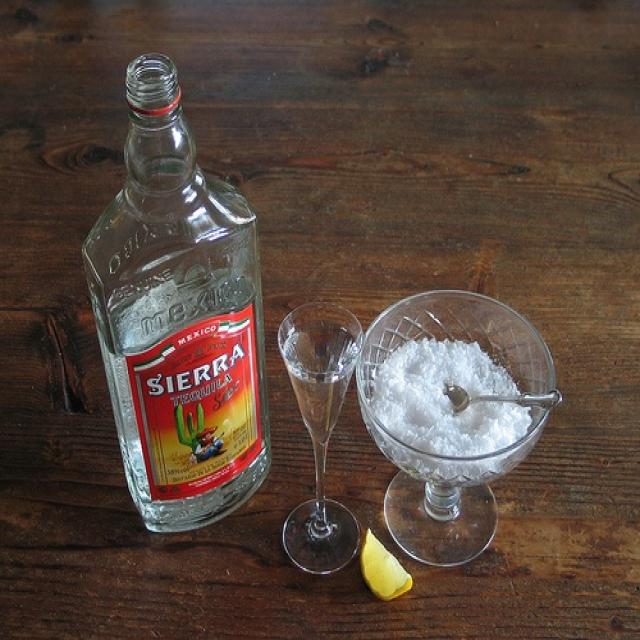bottle: (77, 43, 279, 540)
